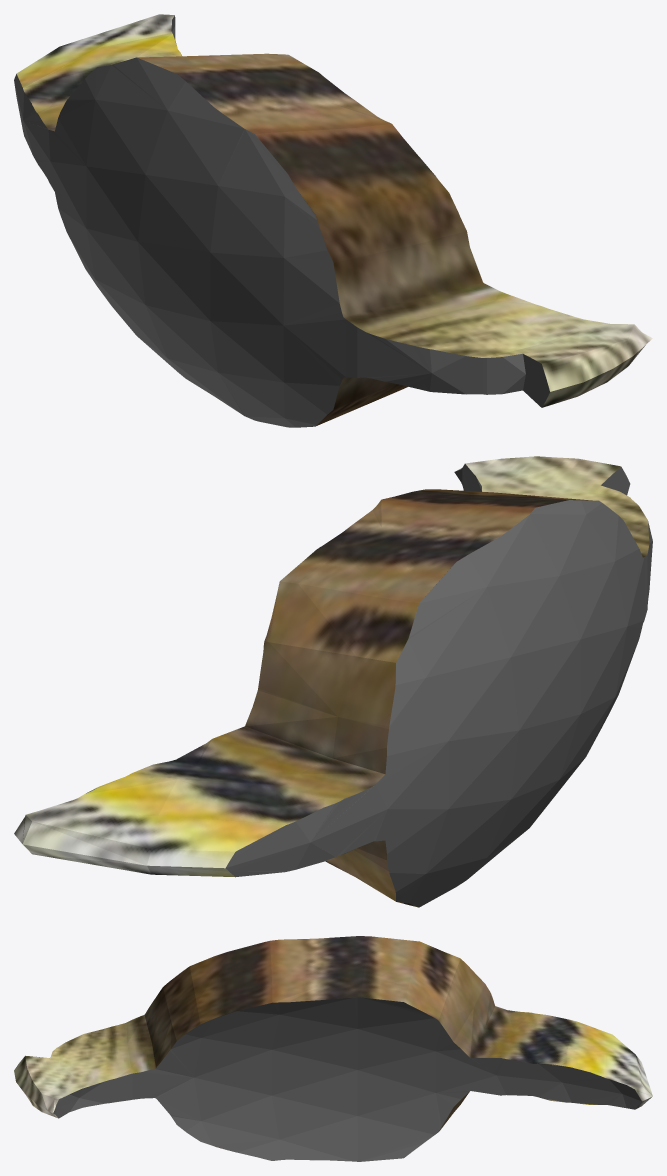
The picture shows the model from 3 angles, top to bottom: view 1: azimuth 30°, elevation 25°; view 2: azimuth 150°, elevation 25°; view 3: azimuth 270°, elevation 25°; orthographic projection. The views are drawn at different scales.
Visible parts, largest first — view 1: link_9_visual; view 2: link_9_visual; view 3: link_9_visual.
Part boxes in pixels (x1=…): link_9_visual: x1=14, y1=14, x2=652, y2=427; link_9_visual: x1=14, y1=456, x2=652, y2=907; link_9_visual: x1=14, y1=936, x2=652, y2=1161.
Bounding box in the file's own units: 0.00144 × 0.00143 × 0.00415.
1 material, 1 textured.
